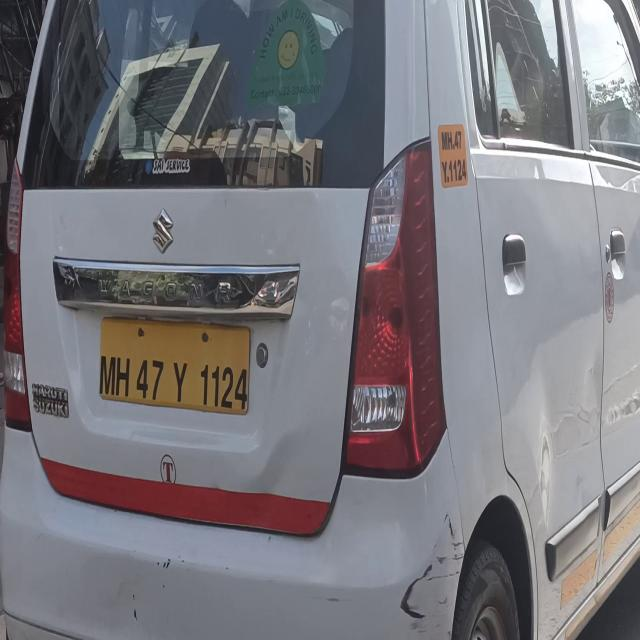Plate: (100, 318, 253, 415)
